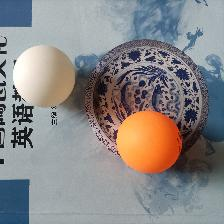WhiteBall: (11, 44, 75, 108)
YellowBall: (115, 109, 181, 174)
